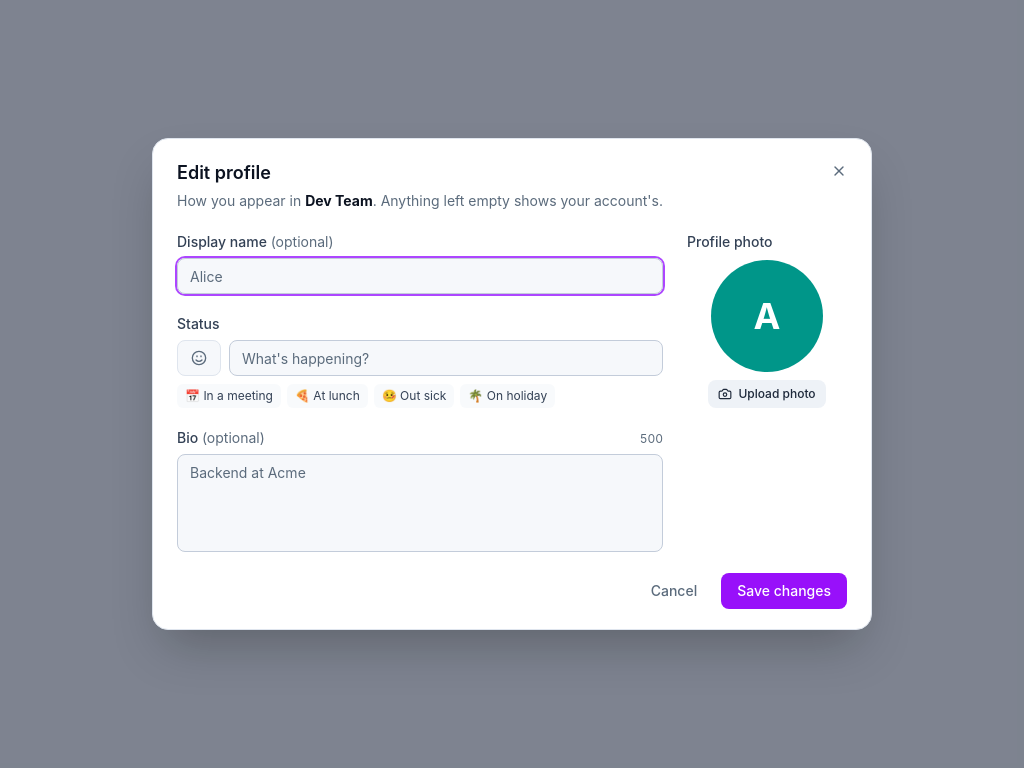
Test case: EditProfileModal › stays open and says why when saving fails
Click the button "Save changes": (784, 591) [721,573,847,609]
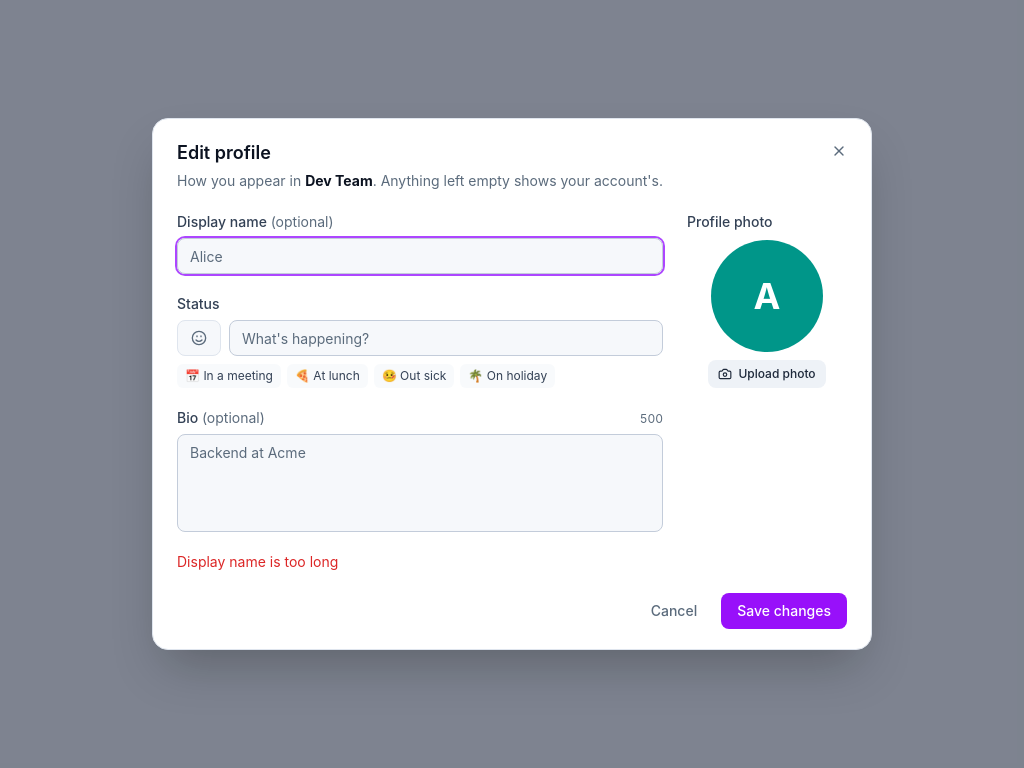
Now the message reads "Display name is too long", box [177,553,338,570]
